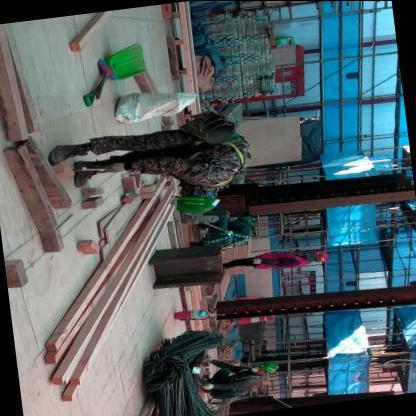Helmet: (165, 193, 230, 223)
safety-shoe: (41, 135, 91, 167), (66, 161, 110, 195)
